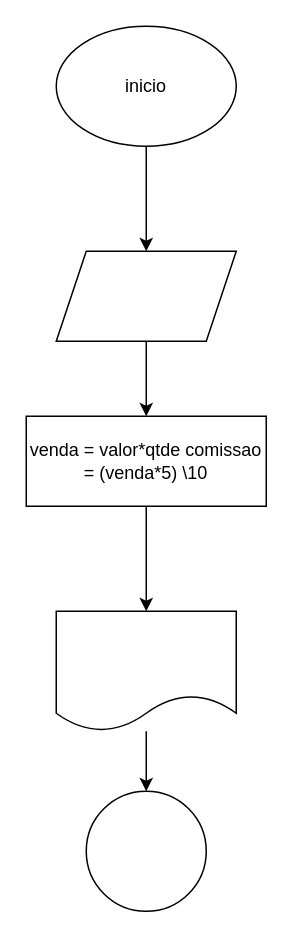
The diagram is 293 pixels wide and 938 high, and some of its shapes have lost their labels. The box of each missing label's shape, as (x1, y1, x2, y2) in pixels:
comisao: (55, 610, 236, 731)
valor,qtde: (55, 250, 236, 341)
